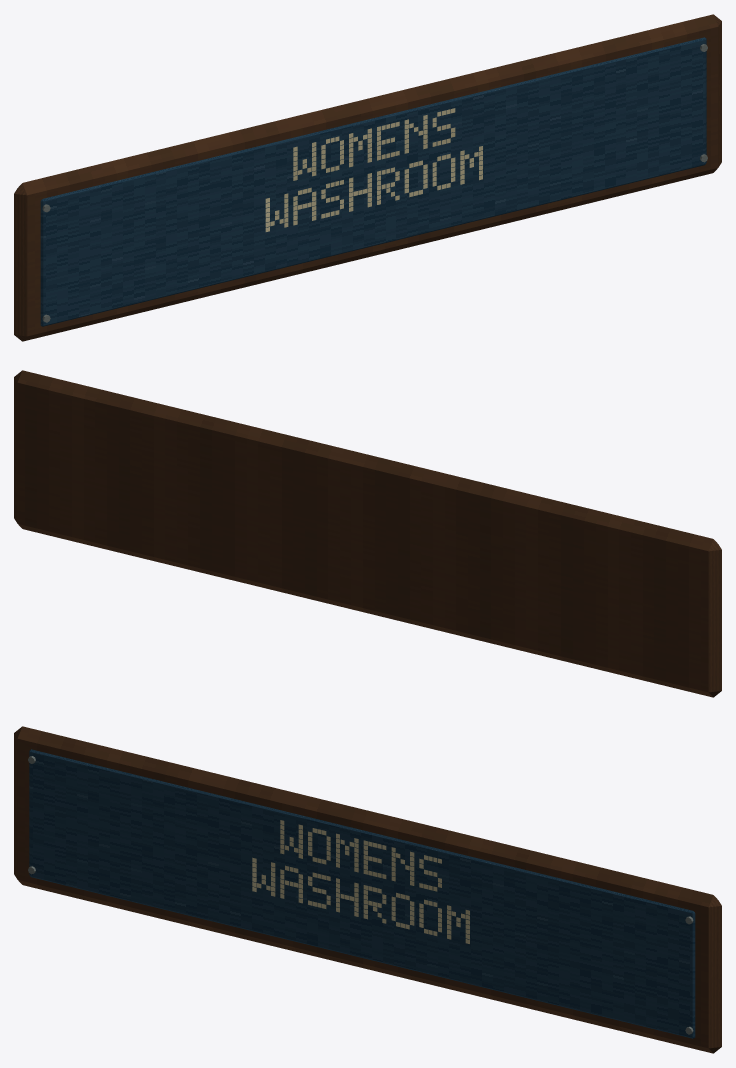
Rendered from level_sign_womens.glb.
3 views of the same model, one above another, from view 1: azimuth 30°, elevation 25°; view 2: azimuth 150°, elevation 25°; view 3: azimuth 330°, elevation 25° (orthographic).
Visible parts, largest first — view 1: level_sign_womens; view 2: level_sign_womens; view 3: level_sign_womens.
Part boxes in pixels (x1,y1,x2,y2): level_sign_womens: (14, 14, 721, 341); level_sign_womens: (14, 370, 721, 697); level_sign_womens: (14, 726, 721, 1053).
Bounding box in the file's own units: 1.68 × 0.36 × 0.053.
Materials: 4 (4 with a texture image).
